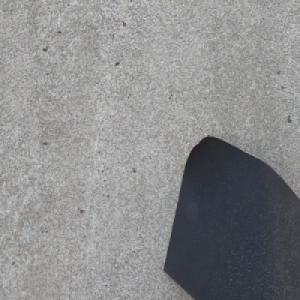PaintChip: (162, 133, 300, 299)
